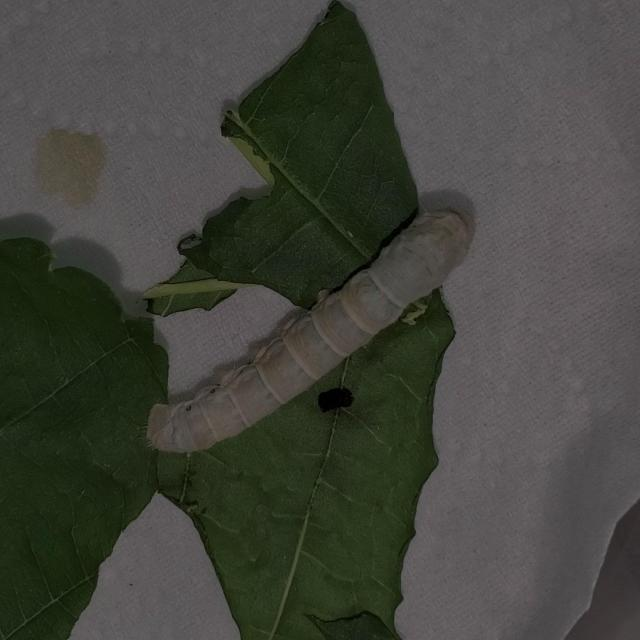Healthy: (134, 198, 479, 462)
